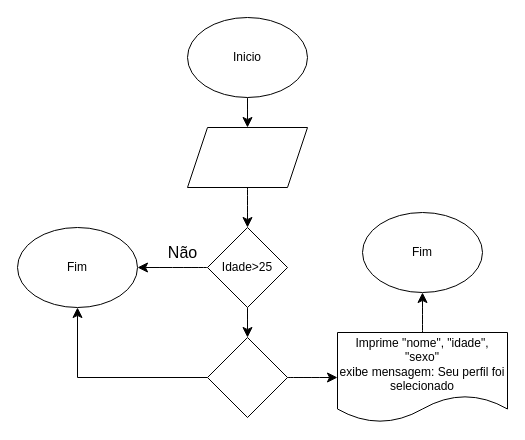
Some shapes in this 525 by 440 pixel diagram are drawn without their labels. The centre of each missing label's shape, as x and y in pixels:
"Sexo" = Feminino?: (247,377)
recebe "Idade" recebe "Sexo" recebe "Nome": (247,157)
